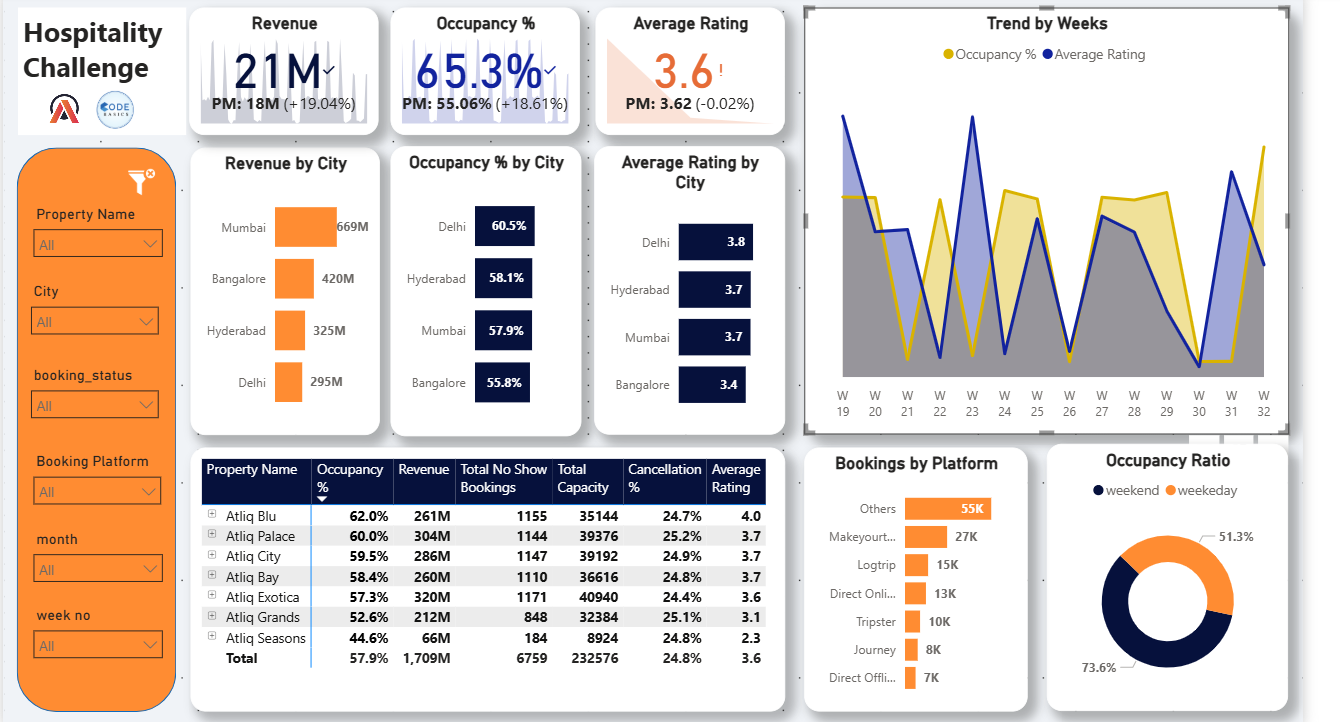

The page's visual inventory and layout, read from the dashboard file:
{"tool":"powerbi","page":{"name":"Report page","canvas":[1280,720],"ordinal":0},"visuals":[{"type":"clusteredBarChart","fields":{"Y":["Measures Tab.Revenue"],"Category":["dim_hotels.city"]},"box":[184.1,149.7,186.5,283.4],"z":0},{"type":"shape","box":[13.5,149.7,157.1,555.8],"z":1000},{"type":"kpi","title":"Revenue","fields":{"Indicator":["Measures Tab.Revenue"],"Goal":["Measures Tab.Revenue LM"],"TrendLine":["dim_date.date.Variation.Date Hierarchy.Month"]},"box":[183.7,12.5,186.4,125.2],"z":2000},{"type":"slicer","title":"Property Name ","fields":{"Values":["dim_hotels.property_name"]},"box":[19.5,201.7,147.5,64],"z":3000},{"type":"slicer","fields":{"Values":["dim_hotels.city"]},"box":[16.7,278.3,146.1,62.6],"z":4000},{"type":"slicer","fields":{"Values":["fact_bookings.booking_status"]},"box":[16.7,360.3,146.1,64],"z":5000},{"type":"slicer","fields":{"Values":["fact_bookings.booking_platform"]},"box":[19.5,445.2,146.1,62.6],"z":6000},{"type":"slicer","fields":{"Values":["dim_date.week no"]},"box":[19.5,596.9,147.5,64],"z":7000},{"type":"kpi","title":"Occupancy %","fields":{"Indicator":["Measures Tab.Occupancy %"],"Goal":["Measures Tab.Occupancy % LM"],"TrendLine":["dim_date.date.Variation.Date Hierarchy.Month"]},"box":[381.2,12.5,186.4,125.2],"z":8000},{"type":"kpi","title":"Average Rating","fields":{"Indicator":["Measures Tab.Average Rating"],"Goal":["Measures Tab.Average Rating % LM"],"TrendLine":["dim_date.mmm yy.Variation.Date Hierarchy.Month"]},"box":[583,12.5,186.4,125.2],"z":9000},{"type":"clusteredBarChart","fields":{"Y":["Measures Tab.Occupancy %"],"Category":["dim_hotels.city"]},"box":[381.2,148.9,187.8,285.2],"z":10000},{"type":"clusteredBarChart","fields":{"Y":["Measures Tab.Average Rating"],"Category":["dim_hotels.city"]},"box":[581.6,148.9,187.8,283.8],"z":11000},{"type":"pivotTable","fields":{"Values":["Measures Tab.Occupancy %","Measures Tab.Revenue","Measures Tab.Total No Show Bookings","Measures Tab.Total Capacity","Measures Tab.Cancellation %","Measures Tab.Average Rating"],"Rows":["dim_hotels.property_name","dim_hotels.city"]},"box":[184.1,445.4,585.3,260.1],"z":12000},{"type":"lineChart","title":"Trend by Weeks","fields":{"Category":["dim_date.week no"],"Y2":["Measures Tab.Average Rating"],"Y":["Measures Tab.Occupancy %"]},"box":[788.9,12.5,477.2,420.2],"z":13000},{"type":"donutChart","title":"Occupancy Ratio","fields":{"Category":["dim_date.Day Type"],"Y":["Measures Tab.Occupancy %"]},"box":[1028.2,442.4,237.9,263],"z":14000},{"type":"barChart","title":"Bookings by Platform","fields":{"Category":["fact_bookings.booking_platform"],"Y":["Measures Tab.Total Bookings"]},"box":[788.9,445.2,219.8,260.2],"z":15000},{"type":"textbox","box":[15.3,12.5,165.6,125.2],"z":16000},{"type":"image","title":"atliq","box":[34.8,86.3,48.7,51.5],"z":17000},{"type":"image","title":"codebasics","box":[83.5,89,52.9,48.7],"z":18000},{"type":"image","box":[116.9,165.6,39,36.2],"z":19000},{"type":"slicer","title":"Property Name ","fields":{"Values":["dim_date.month"]},"box":[19.5,521.7,147.5,64],"z":20000}]}

Visuals, with their boxes on the page's 1280x720 design canvas (x1, y1, x2, y2). These are canvas units, not pixel positions in the 1340x722 screenshot, which may show the page scaled, cropped or inside an application window:
clusteredBarChart - Measures Tab.Revenue x dim_hotels.city: [184,150,371,433]
shape: [14,150,171,706]
"Revenue" kpi: [184,12,370,138]
"Property Name " slicer: [20,202,167,266]
slicer - dim_hotels.city: [17,278,163,341]
slicer - fact_bookings.booking_status: [17,360,163,424]
slicer - fact_bookings.booking_platform: [20,445,166,508]
slicer - dim_date.week no: [20,597,167,661]
"Occupancy %" kpi: [381,12,568,138]
"Average Rating" kpi: [583,12,769,138]
clusteredBarChart - Measures Tab.Occupancy % x dim_hotels.city: [381,149,569,434]
clusteredBarChart - Measures Tab.Average Rating x dim_hotels.city: [582,149,769,433]
pivotTable - Measures Tab.Occupancy % x Measures Tab.Revenue: [184,445,769,706]
"Trend by Weeks" lineChart: [789,12,1266,433]
"Occupancy Ratio" donutChart: [1028,442,1266,705]
"Bookings by Platform" barChart: [789,445,1009,705]
textbox: [15,12,181,138]
"atliq" image: [35,86,84,138]
"codebasics" image: [84,89,136,138]
image: [117,166,156,202]
"Property Name " slicer: [20,522,167,586]
